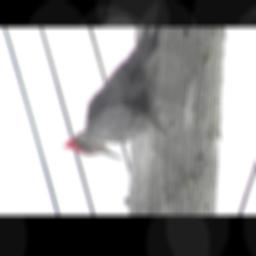Woodpecker: (60, 27, 168, 161)
